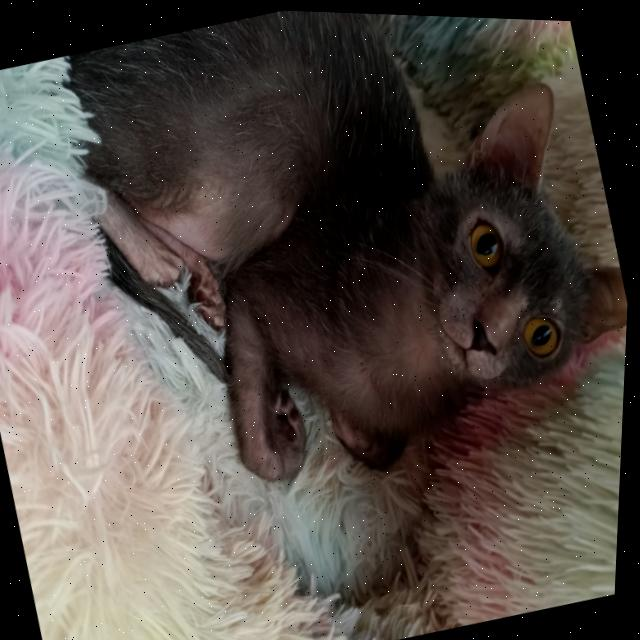Lykoi: (22, 1, 640, 543)
